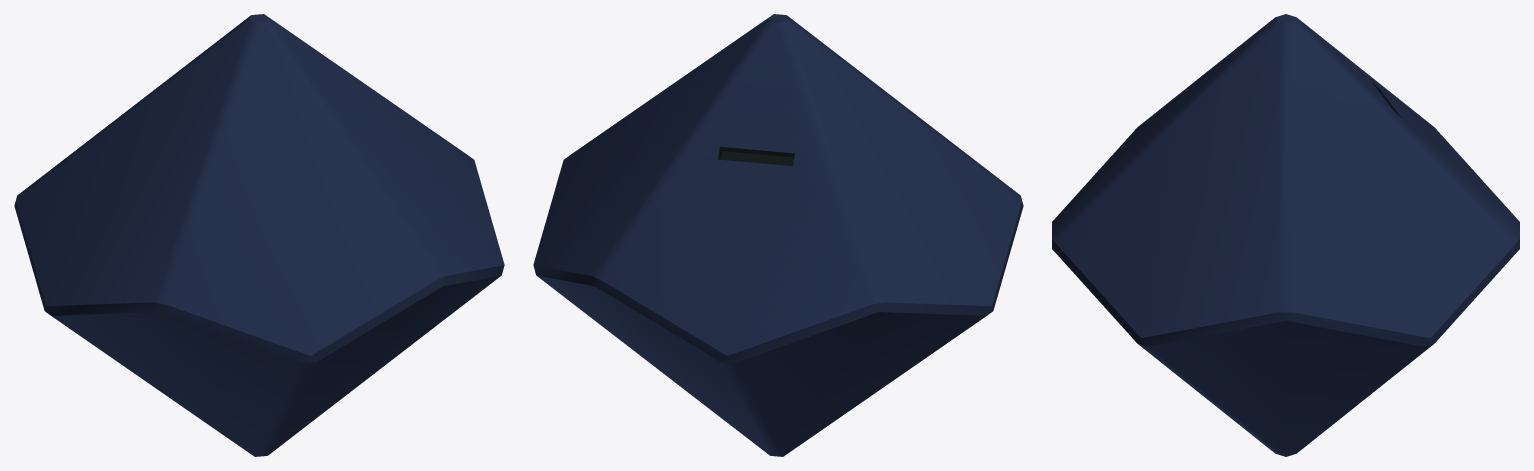
Rendered from tithe_d10_mobile.glb.
3 views of the same model, side by side, from view 1: azimuth 30°, elevation 25°; view 2: azimuth 150°, elevation 25°; view 3: azimuth 270°, elevation 25° (orthographic).
Visible parts, largest first — view 1: TitheD10; view 2: TitheD10; view 3: TitheD10.
Part boxes in pixels (x1=…): TitheD10: x1=14, y1=14, x2=504, y2=456; TitheD10: x1=533, y1=14, x2=1023, y2=456; TitheD10: x1=1052, y1=14, x2=1519, y2=456.
Bounding box in the file's own units: 0.0995 × 0.0968 × 0.0946.
